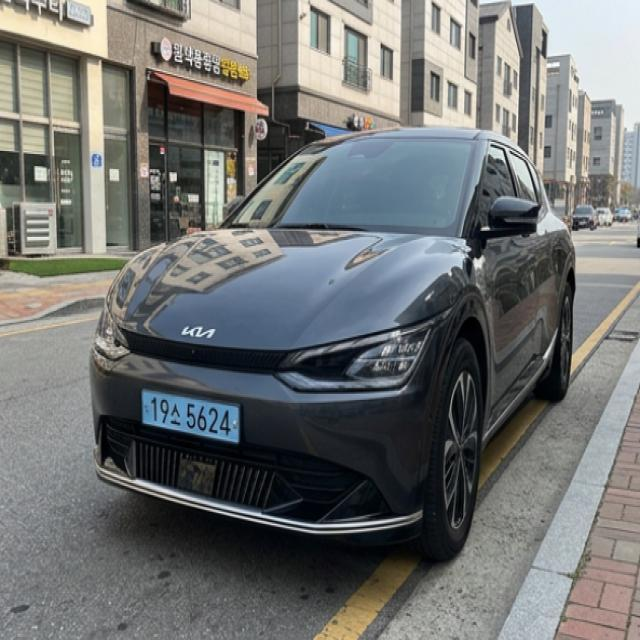car: (128, 381, 263, 454)
carev: (228, 399, 243, 448), (140, 387, 152, 433)
